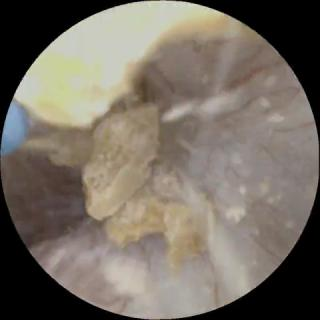fiber: (4, 103, 26, 153)
stone: (27, 108, 214, 279)
